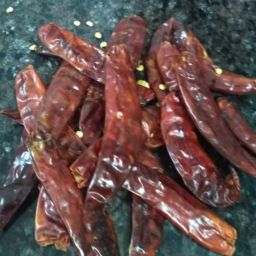Chiptole pepper: (30, 20, 153, 211), (155, 16, 256, 197), (6, 142, 164, 256), (5, 21, 106, 175), (168, 140, 252, 256)
